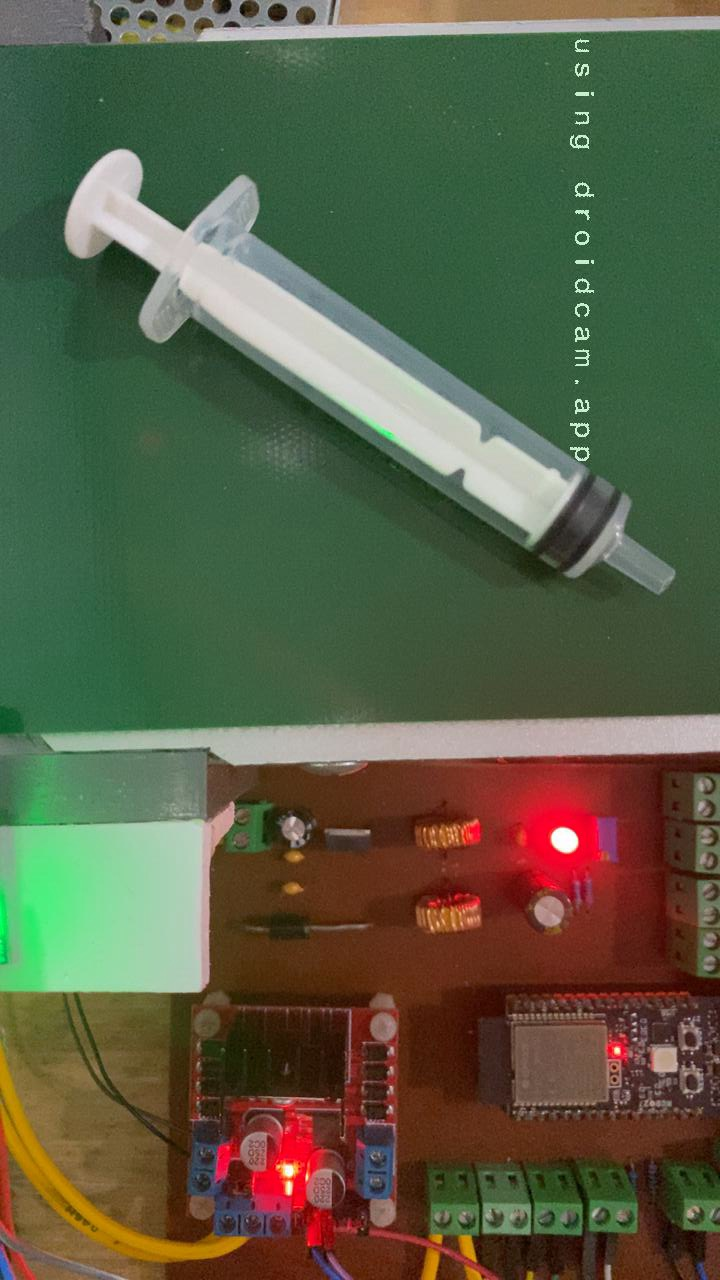syringe: (57, 142, 682, 600)
